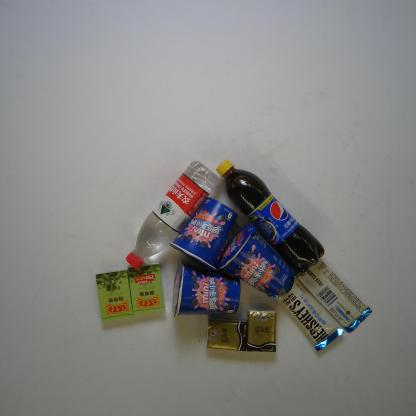Candy: (128, 262, 166, 317), (95, 269, 134, 322)
Chocolate: (296, 256, 373, 333), (270, 275, 345, 351)
Dessert: (218, 224, 294, 297), (169, 197, 237, 270), (170, 260, 242, 318)
Drink: (216, 158, 325, 276), (124, 160, 218, 271)
Tissue: (245, 308, 278, 354), (205, 318, 248, 352)
